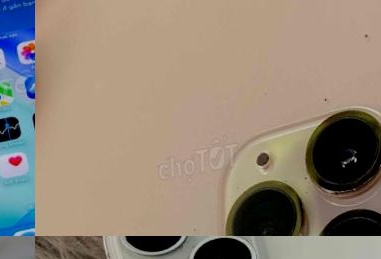scratch: (205, 155, 318, 236), (298, 97, 381, 196), (112, 236, 260, 259), (342, 11, 379, 45), (309, 87, 337, 108)
